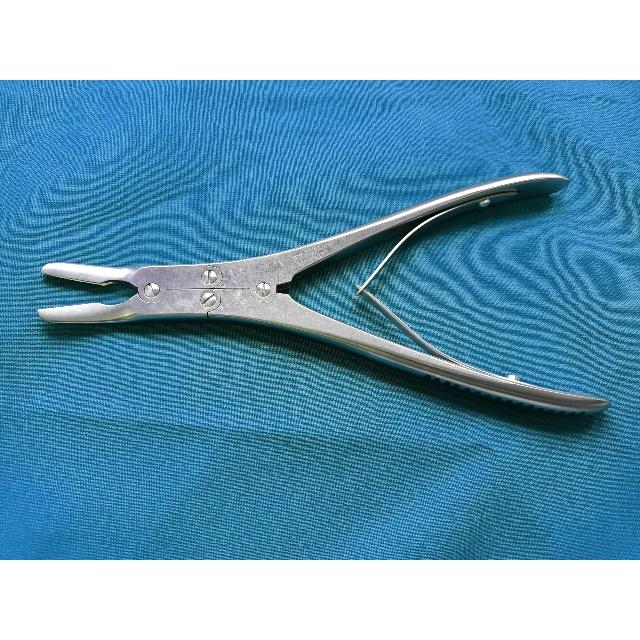gubia: (37, 174, 609, 416)
